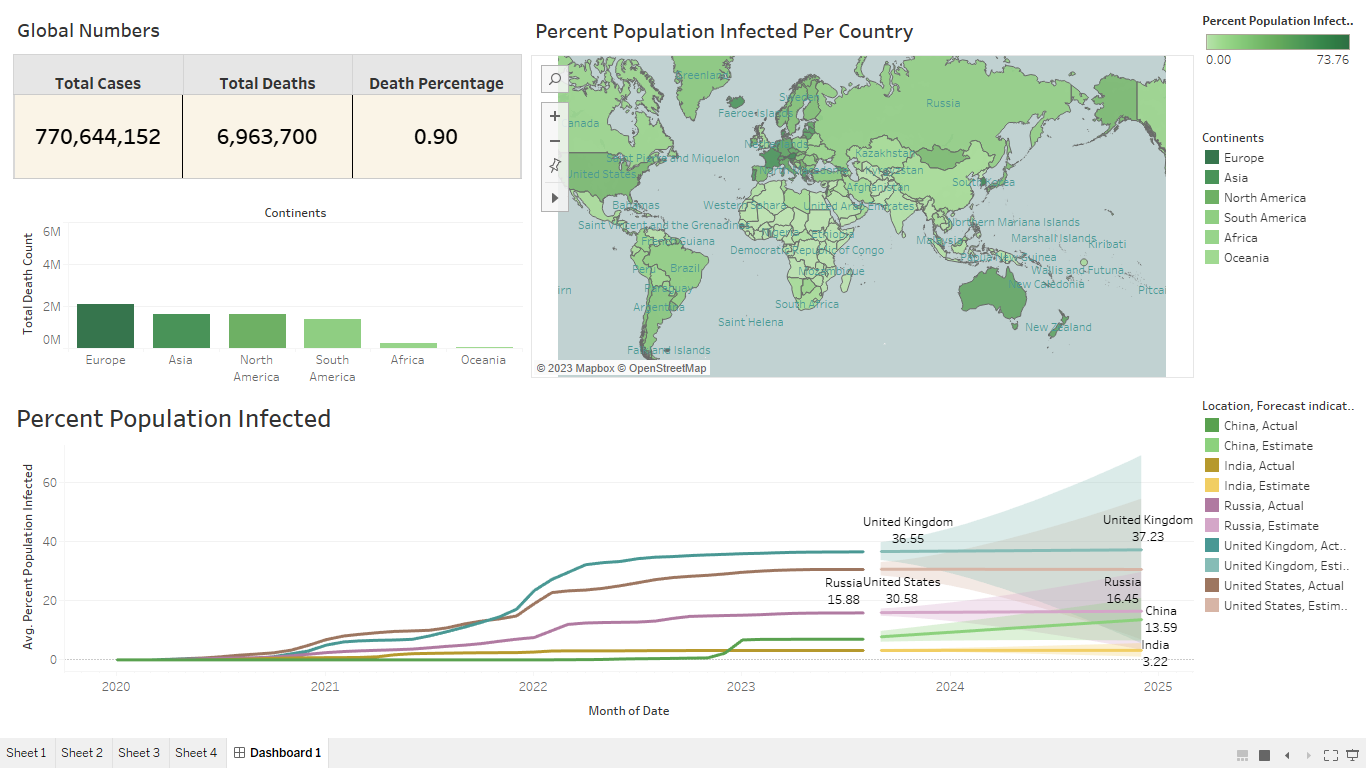

This screenshot's page, from the dashboard's own definition file:
{"tool":"tableau","page":{"name":"Dashboard 1","canvas":[1000,1000],"units":"permille","ordinal":0},"visuals":[{"type":"worksheet","title":"Sheet 1","mark":"Automatic","box":[7,13.5,368.7,236.4]},{"type":"worksheet","title":"Sheet 3","mark":"Automatic","box":[375.8,13.5,476.3,518.5]},{"type":"legend","title":"Sheet 3","param":"[federated.0w0pk6w1mzpgif1h2knd30uv3jx4].[sum:PercentPopulationInfected:qk]","box":[852.1,13.5,140.8,197.6]},{"type":"legend","title":"Sheet 2","param":"[federated.0lg8s1i1bnm21b108ktve13hoj1p].[none:location:nk]","box":[852.1,211.1,140.8,266.9]},{"type":"worksheet","title":"Sheet 2","mark":"Bar","rows":["TotalDeathCount"],"cols":["location"],"box":[7,249.9,368.7,282.1]},{"type":"worksheet","title":"Sheet 4","mark":"Automatic","rows":["PercentPopulationInfected"],"cols":["date"],"box":[7,532,845.1,454.5]},{"type":"legend","title":"Sheet 4","param":"[federated.17k1vum1iqvdn01alm0t803j1udu].[none:Location:nk]\n[federated.17k1vum1i","box":[852.1,532,140.8,454.5]}]}

Visuals, with their boxes on the dashboard's canvas, which has no fixed pixel size, in thousandths of its width and height (x1, y1, x2, y2). These are canvas units, not pixel positions in the 1366x768 screenshot, which may show the page scaled, cropped or inside an application window:
"Sheet 1" worksheet: 7, 14, 376, 250
"Sheet 3" worksheet: 376, 14, 852, 532
"Sheet 3" legend: 852, 14, 993, 211
"Sheet 2" legend: 852, 211, 993, 478
"Sheet 2" worksheet (Bar marks): 7, 250, 376, 532
"Sheet 4" worksheet: 7, 532, 852, 986
"Sheet 4" legend: 852, 532, 993, 986
